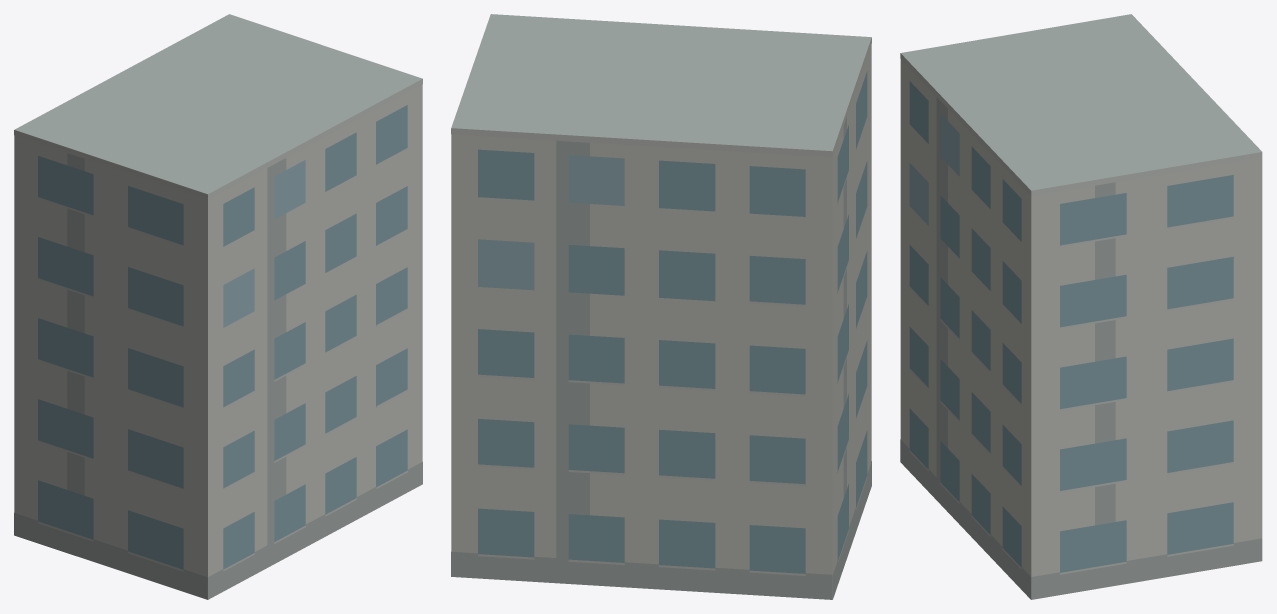
Rendered from survey-upis-32857154.glb.
3 renders of one model, left to right at view 1: azimuth 30°, elevation 25°; view 2: azimuth 150°, elevation 25°; view 3: azimuth 270°, elevation 25°, orthographic. The views are drawn at different scales.
Parts seen in each view (by area): view 1: survey-upis-32857154.tmp; view 2: survey-upis-32857154.tmp; view 3: survey-upis-32857154.tmp.
Boxes of the visible parts, x1,y1,x2,y2 form: survey-upis-32857154.tmp: (14,14,422,599); survey-upis-32857154.tmp: (451,14,871,599); survey-upis-32857154.tmp: (900,14,1262,599).
Size of the model in its own units: 16.24 by 17.53 by 14.06.
